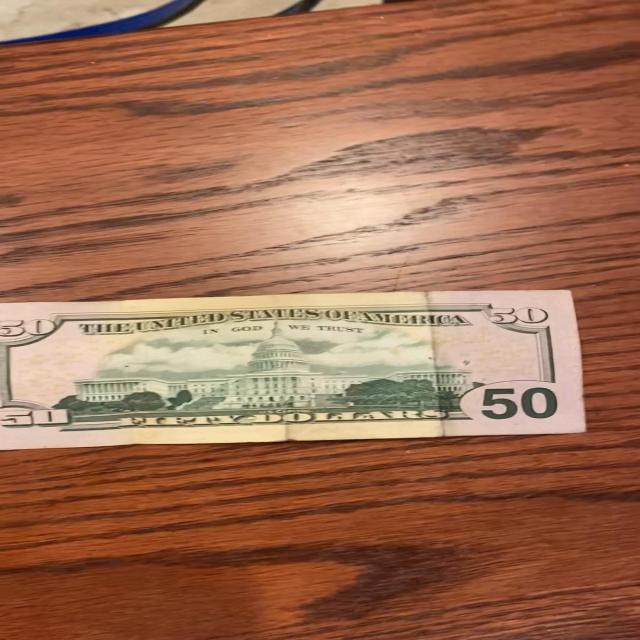50-Back: (0, 280, 600, 456)
